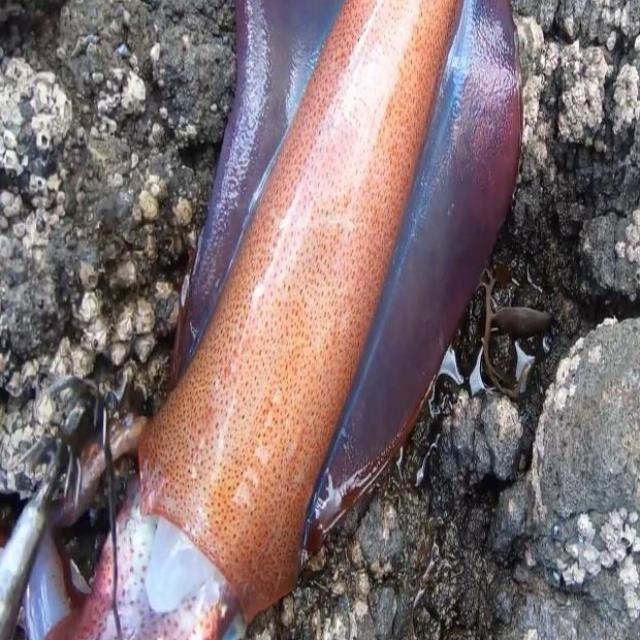SQUID: (24, 0, 532, 640)
